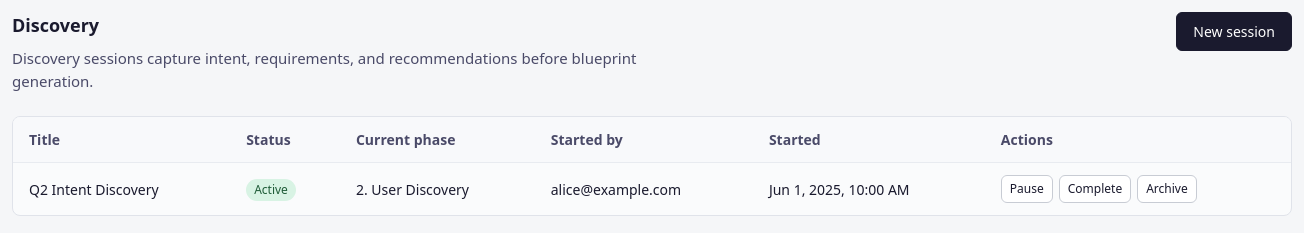
DiscoveryPage › pauses active session via lifecycle action
Click the button "Pause". click: (1027, 189)
box: [1001,175,1053,203]
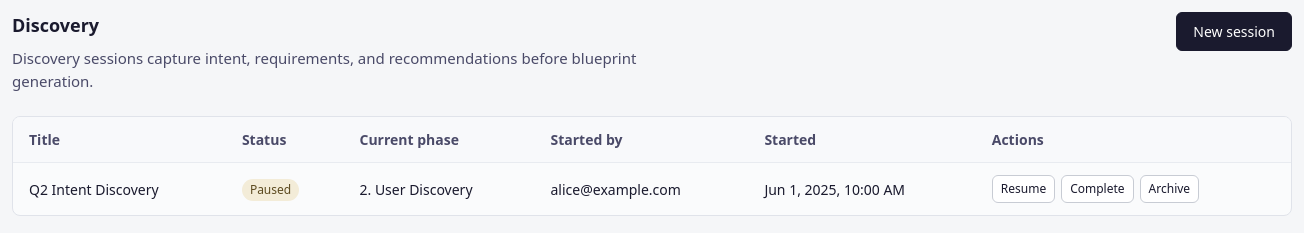
Check: the text "Paused" is shown, box [242,178,299,200]
